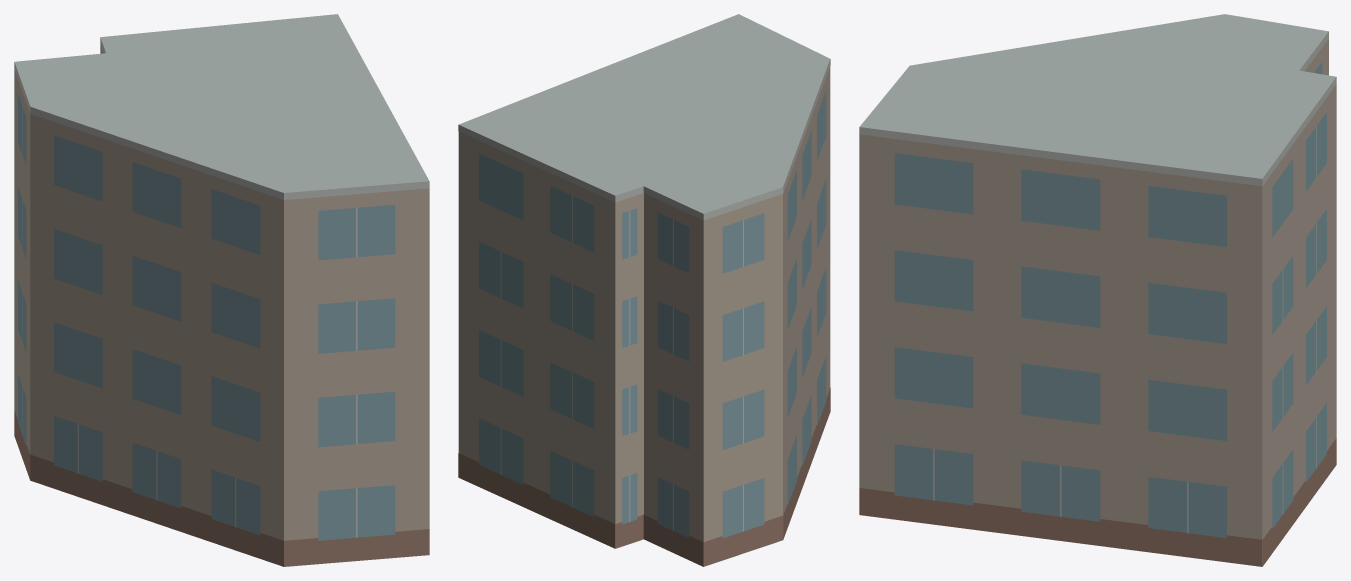
The model's file is survey-upis-32965440.glb.
3 renders of one model, left to right at view 1: azimuth 30°, elevation 25°; view 2: azimuth 150°, elevation 25°; view 3: azimuth 270°, elevation 25°, orthographic. The views are drawn at different scales.
Visible parts, largest first — view 1: survey-upis-32965440.tmp; view 2: survey-upis-32965440.tmp; view 3: survey-upis-32965440.tmp.
Boxes of the visible parts, box(x1,y1,x2,y2) form: survey-upis-32965440.tmp: box(14, 14, 429, 566); survey-upis-32965440.tmp: box(458, 14, 830, 566); survey-upis-32965440.tmp: box(859, 14, 1336, 566).
Size of the model in its own units: 11.77 by 12.9 by 14.39.
